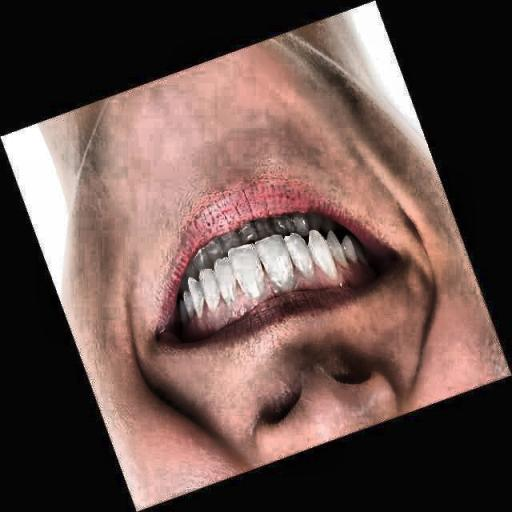Healthy: (107, 139, 386, 370)
